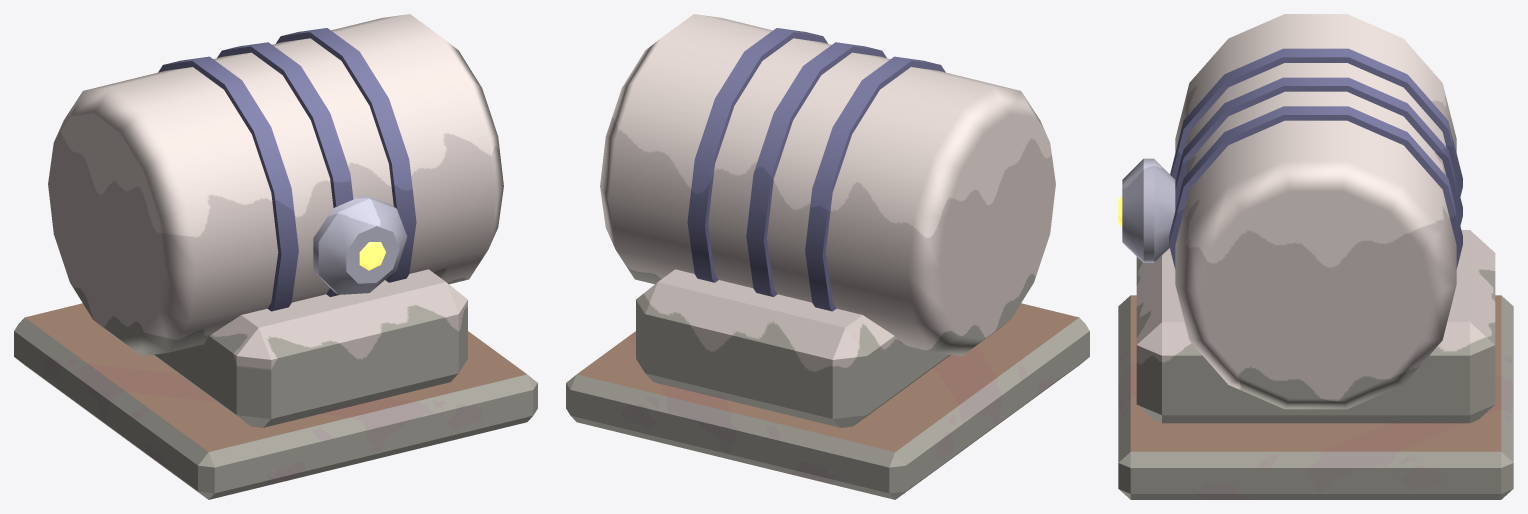
File: R4X_DrivePower_LOD1.glb
3 renders of one model, left to right at view 1: azimuth 30°, elevation 25°; view 2: azimuth 150°, elevation 25°; view 3: azimuth 270°, elevation 25°, orthographic.
Parts seen in each view (by area): view 1: R4X_DrivePower_LOD1; view 2: R4X_DrivePower_LOD1; view 3: R4X_DrivePower_LOD1.
Boxes of the visible parts, x1,y1,x2,y2 form: R4X_DrivePower_LOD1: (14, 14, 537, 499); R4X_DrivePower_LOD1: (566, 14, 1089, 499); R4X_DrivePower_LOD1: (1118, 14, 1513, 499).
Bounding box in the file's own units: 0.52 × 0.4936 × 0.52.
Materials: 5 (4 with a texture image).
